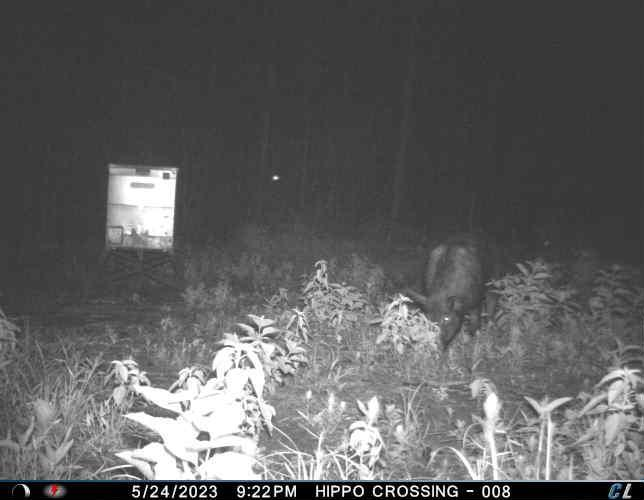Hog: (407, 232, 487, 351)
